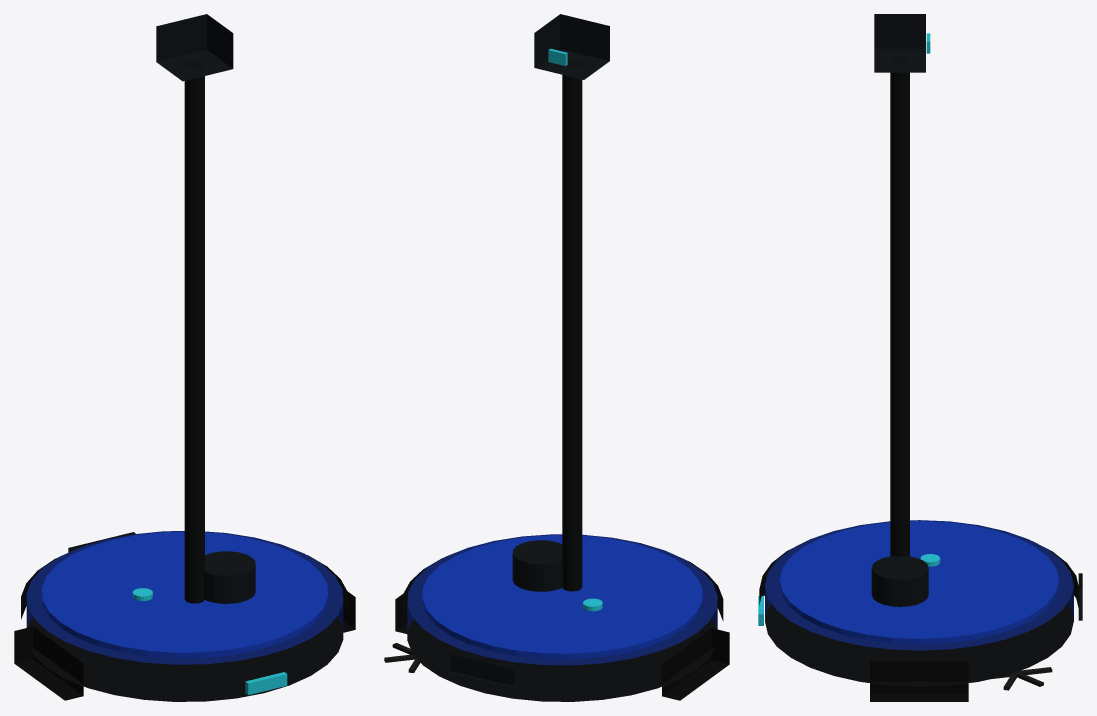
Rendered from robot_blue_h120.obj.
3 views of the same model, side by side, from view 1: azimuth 30°, elevation 25°; view 2: azimuth 150°, elevation 25°; view 3: azimuth 270°, elevation 25° (orthographic). The views are drawn at different scales.
Visible parts, largest first — view 1: low_poly_robot_vacuum; view 2: low_poly_robot_vacuum; view 3: low_poly_robot_vacuum.
Part boxes in pixels (x1,y1,x2,y2): low_poly_robot_vacuum: (14, 14, 355, 701); low_poly_robot_vacuum: (384, 14, 729, 701); low_poly_robot_vacuum: (758, 14, 1082, 701).
Bounding box in the file's own units: 0.596 × 1.22 × 0.592.
